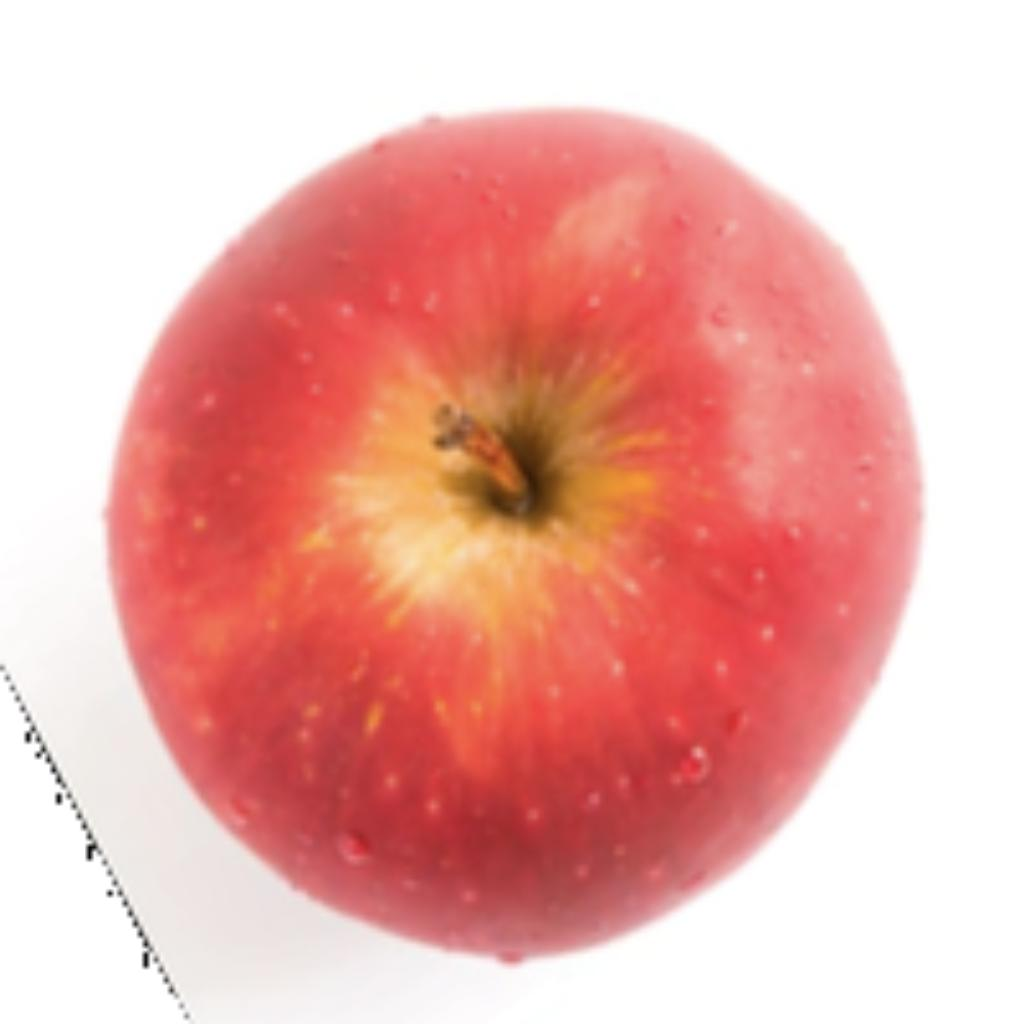apple: (92, 97, 927, 968)
